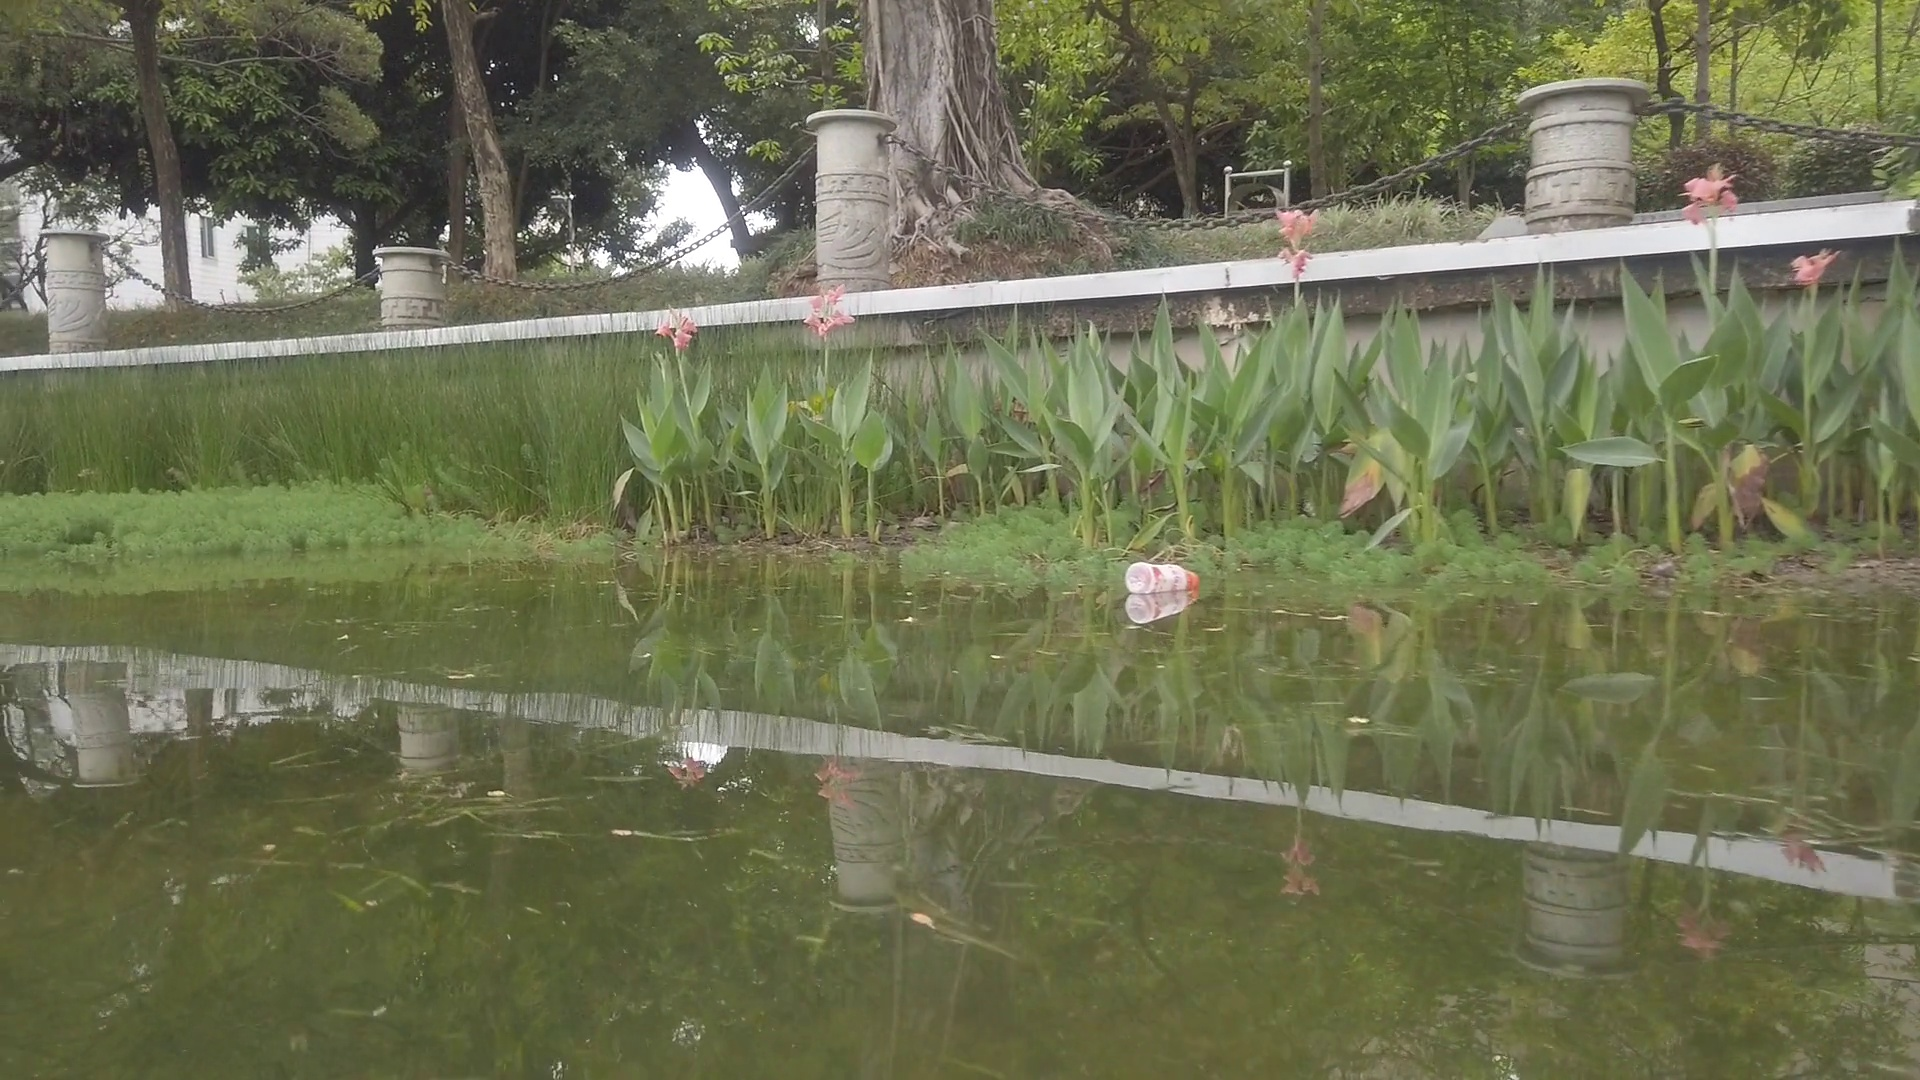bottle: (1125, 563, 1199, 595)
